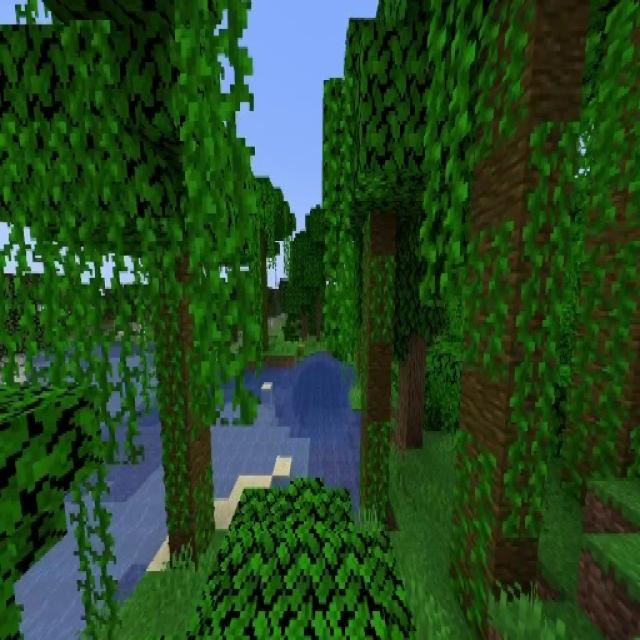jungle: (324, 19, 432, 525), (231, 176, 296, 354)
jungle_log: (455, 0, 586, 620), (563, 0, 640, 470), (153, 241, 213, 575), (362, 218, 396, 528)
oak_log: (399, 351, 424, 448)
